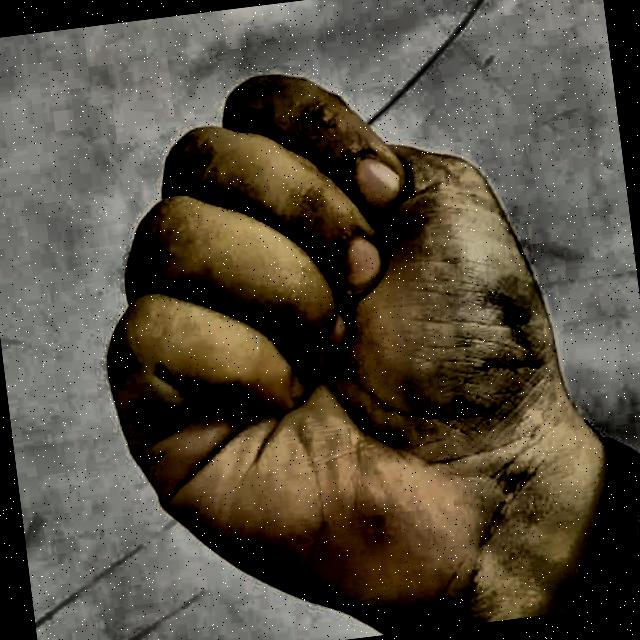To: (38, 0, 617, 640)
